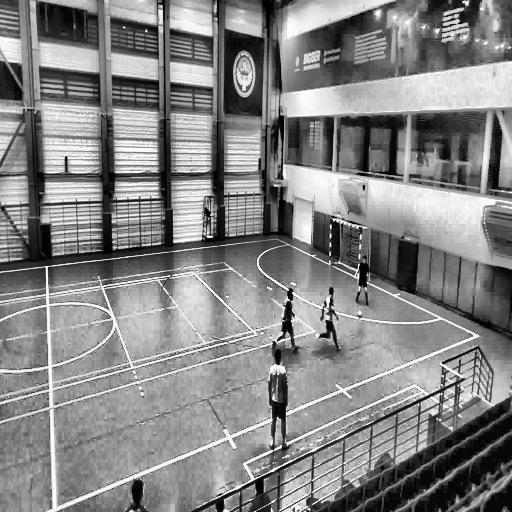ball: (358, 310, 362, 318)
player: (270, 344, 290, 451), (274, 289, 298, 354), (317, 287, 340, 349), (355, 254, 371, 304)
